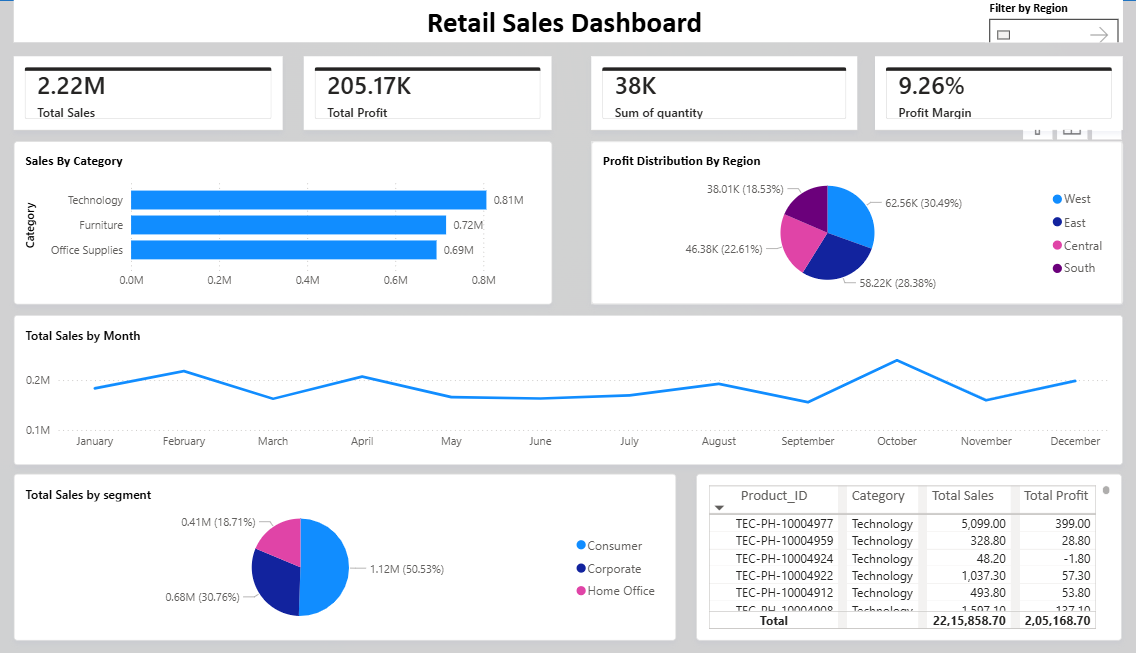

What the dashboard file says about the page in this screenshot:
{"tool":"powerbi","page":{"name":"Page 1","canvas":[1280,720],"ordinal":0},"visuals":[{"type":"shape","box":[0,0,1280.3,719.5],"z":0},{"type":"cardVisual","fields":{"Data":["orders_data.Total Sales"]},"box":[42.2,61.2,295.7,81.6],"z":1000},{"type":"cardVisual","fields":{"Data":["orders_data.Total Profit"]},"box":[361.2,61.2,272.4,81.6],"z":2000},{"type":"pieChart","title":"Profit Distribution By Region","fields":{"Category":["orders_data.region"],"Y":["Sum(orders_data.profit)"]},"box":[675.8,154.4,584.1,179.2],"z":3000},{"type":"cardVisual","fields":{"Data":["Sum(orders_data.quantity)"]},"box":[675.8,61.2,292.8,81.6],"z":4000},{"type":"cardVisual","fields":{"Data":["orders_data.Profit Margin"]},"box":[987.5,61.2,272.4,81.6],"z":5000},{"type":"barChart","title":"Sales By Category","fields":{"Y":["orders_data.Total Sales"],"Category":["orders_data.category"]},"box":[42.2,154.4,591.4,179.2],"z":6000},{"type":"lineChart","fields":{"Category":["orders_data.order_date.Variation.Date Hierarchy.Month"],"Y":["orders_data.Total Sales"]},"box":[42.2,345.2,1217.7,164.6],"z":7000},{"type":"pieChart","fields":{"Category":["orders_data.segment"],"Y":["orders_data.Total Sales"]},"box":[42.2,520,726.8,183.5],"z":8000},{"type":"tableEx","fields":{"Values":["orders_data.product_id","orders_data.category","orders_data.Total Sales","orders_data.Total Profit"]},"box":[792.4,520,467.5,183.5],"z":9000},{"type":"textbox","box":[42.2,0,1217.7,46.6],"z":10000},{"type":"textSlicer","title":"Filter by Region","fields":{"Values":["orders_data.region"]},"box":[1108.4,0,151.5,46.6],"z":11000}]}

Visuals, with their boxes in screenshot pixels (x1, y1, x2, y2), scaled from the page's 1280x720 canvas onto the 1136x653 screenshot:
shape: bbox=(0, 0, 1135, 652)
cardVisual - orders_data.Total Sales: bbox=(37, 56, 300, 130)
cardVisual - orders_data.Total Profit: bbox=(321, 56, 562, 130)
"Profit Distribution By Region" pieChart: bbox=(600, 140, 1118, 303)
cardVisual - Sum(orders_data.quantity): bbox=(600, 56, 860, 130)
cardVisual - orders_data.Profit Margin: bbox=(876, 56, 1118, 130)
"Sales By Category" barChart: bbox=(37, 140, 562, 303)
lineChart - orders_data.order_date.Variation.Date Hierarchy.Month x orders_data.Total Sales: bbox=(37, 313, 1118, 462)
pieChart - orders_data.segment x orders_data.Total Sales: bbox=(37, 472, 682, 638)
tableEx - orders_data.product_id x orders_data.category: bbox=(703, 472, 1118, 638)
textbox: bbox=(37, 0, 1118, 42)
"Filter by Region" textSlicer: bbox=(984, 0, 1118, 42)
